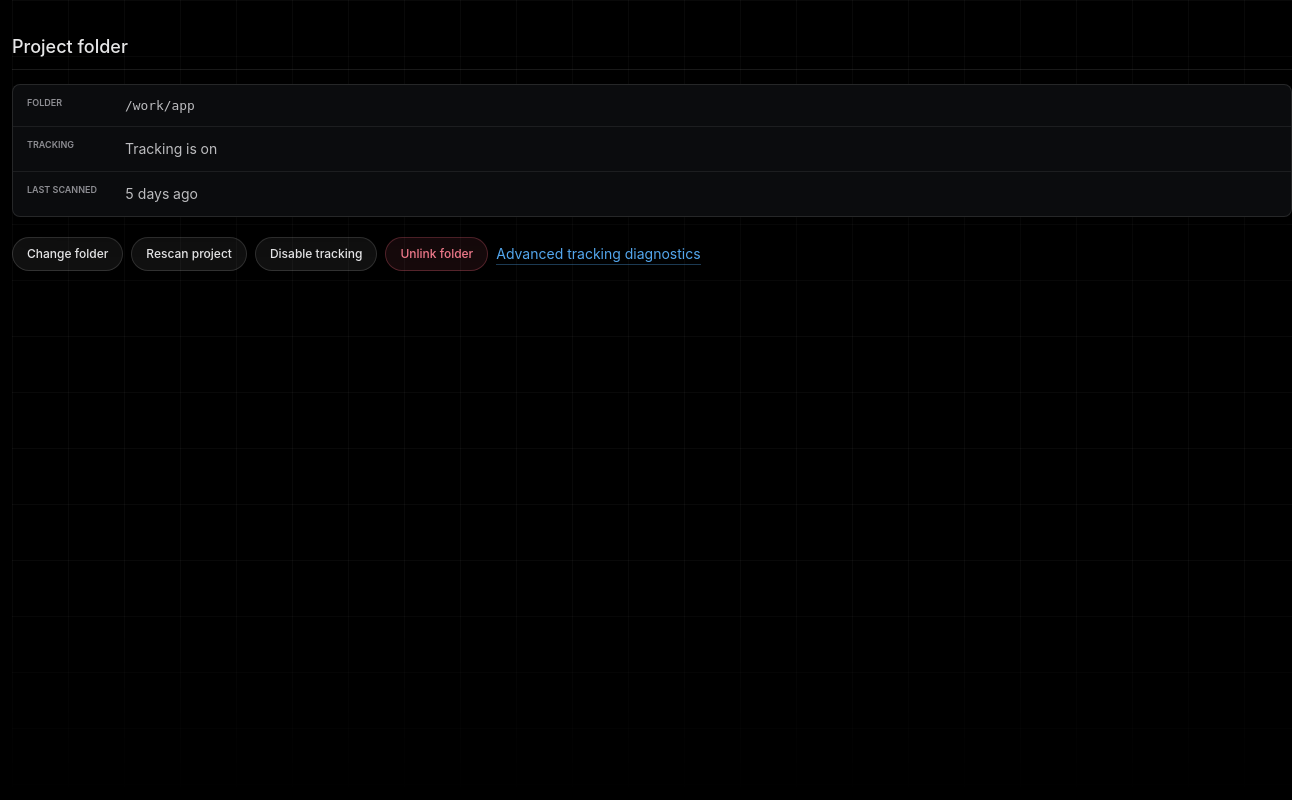
ProjectTracking › disabling tracking says the folder and history are kept
Click the button "Disable tracking": (316, 254) [255, 237, 377, 271]
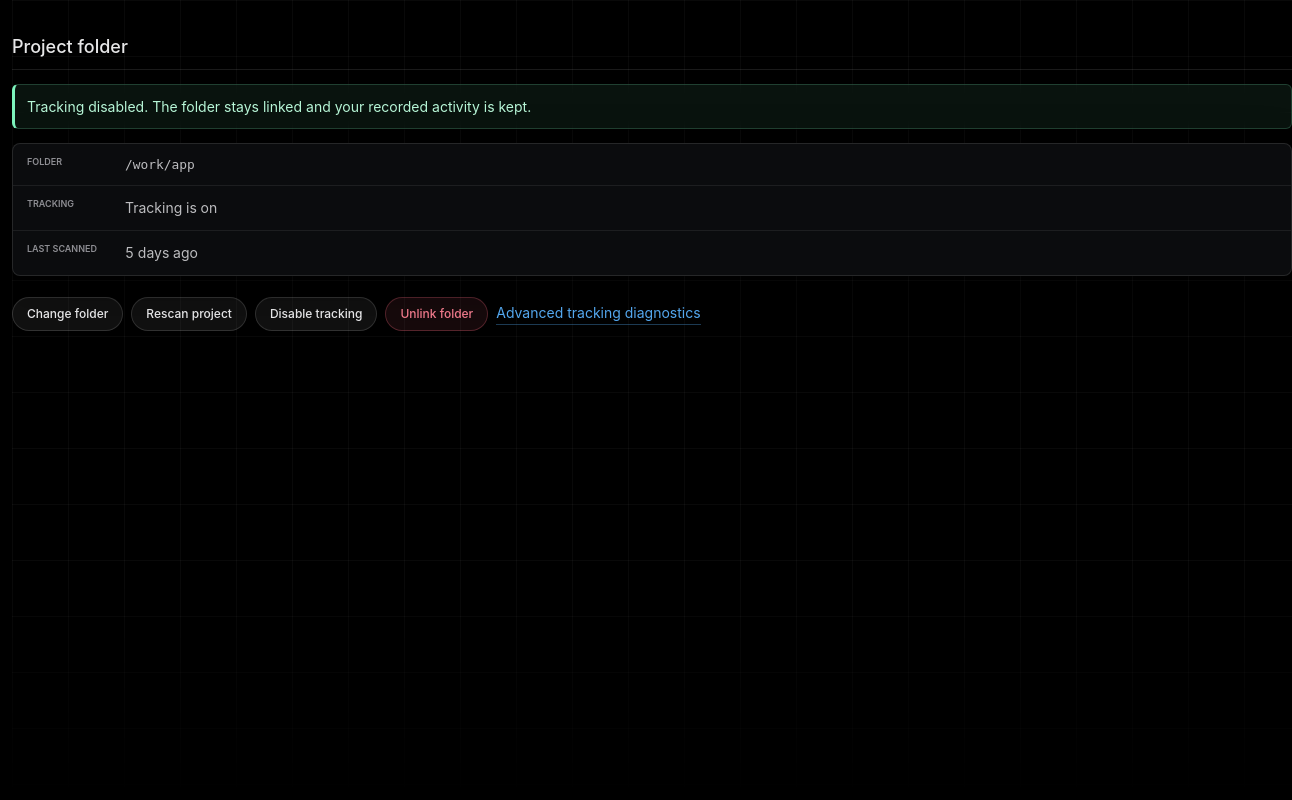
Expected: the text "recorded activity is kept" is shown, [27, 98, 531, 114]
